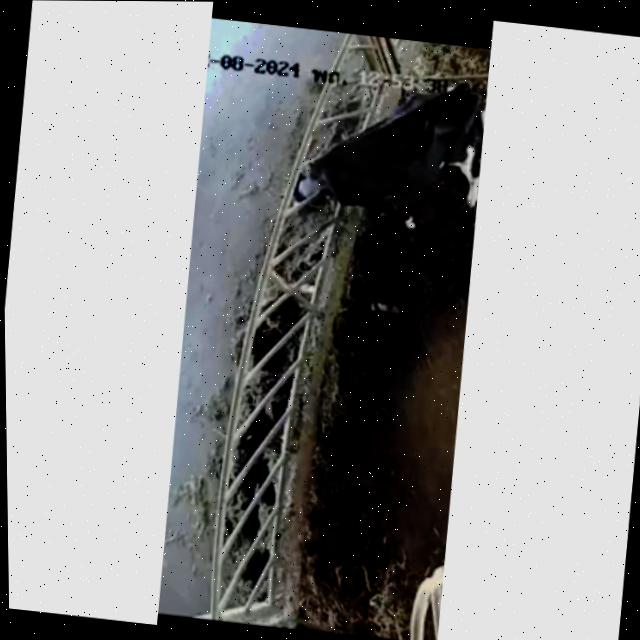eat: (248, 120, 404, 230)
